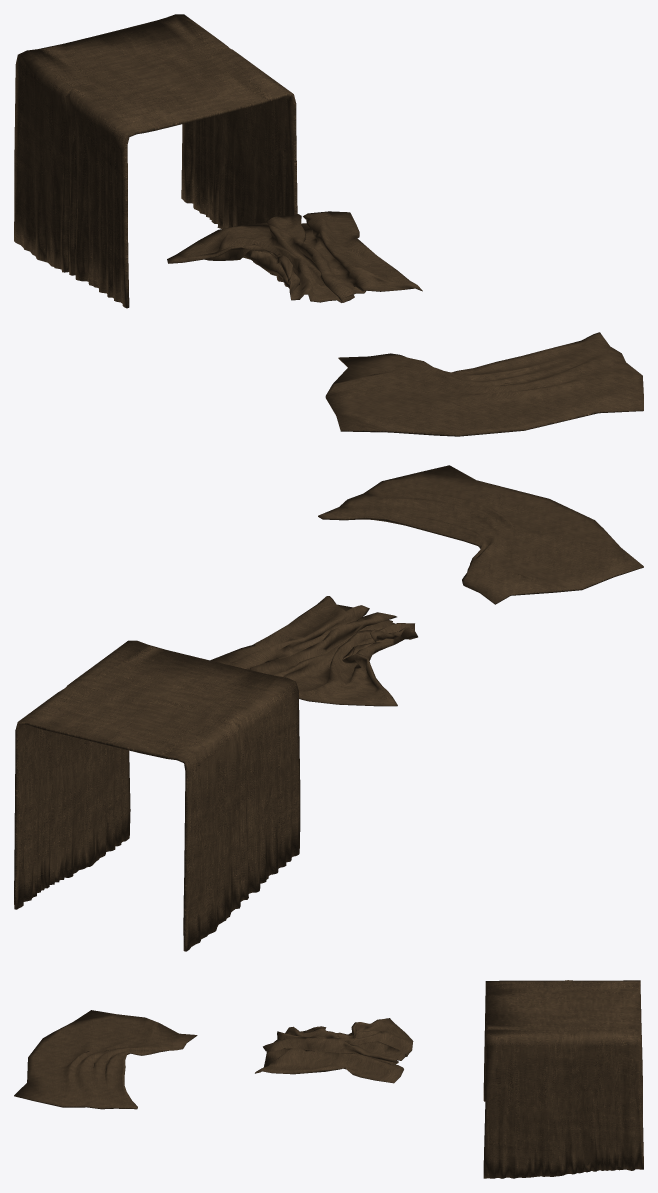
File: Group proj - Rags.fbx
3 renders of one model, top to bottom at view 1: azimuth 30°, elevation 25°; view 2: azimuth 150°, elevation 25°; view 3: azimuth 270°, elevation 25°, orthographic. The views are drawn at different scales.
Visible parts, largest first — view 1: Rag#1, Rag#3, Rag#2; view 2: Rag#1, Rag#3, Rag#2; view 3: Rag#1, Rag#3, Rag#2.
Part boxes in pixels (box(x1,y1,x2,y2)): Rag#1: box(14, 14, 297, 308); Rag#3: box(325, 332, 643, 436); Rag#2: box(167, 211, 422, 302); Rag#1: box(14, 640, 300, 951); Rag#3: box(318, 465, 643, 604); Rag#2: box(210, 596, 417, 706); Rag#1: box(483, 980, 643, 1178); Rag#3: box(14, 1010, 197, 1109); Rag#2: box(255, 1018, 413, 1083).
Size of the model in its own units: 548 by 360 by 1451.
1 material, 1 textured.
